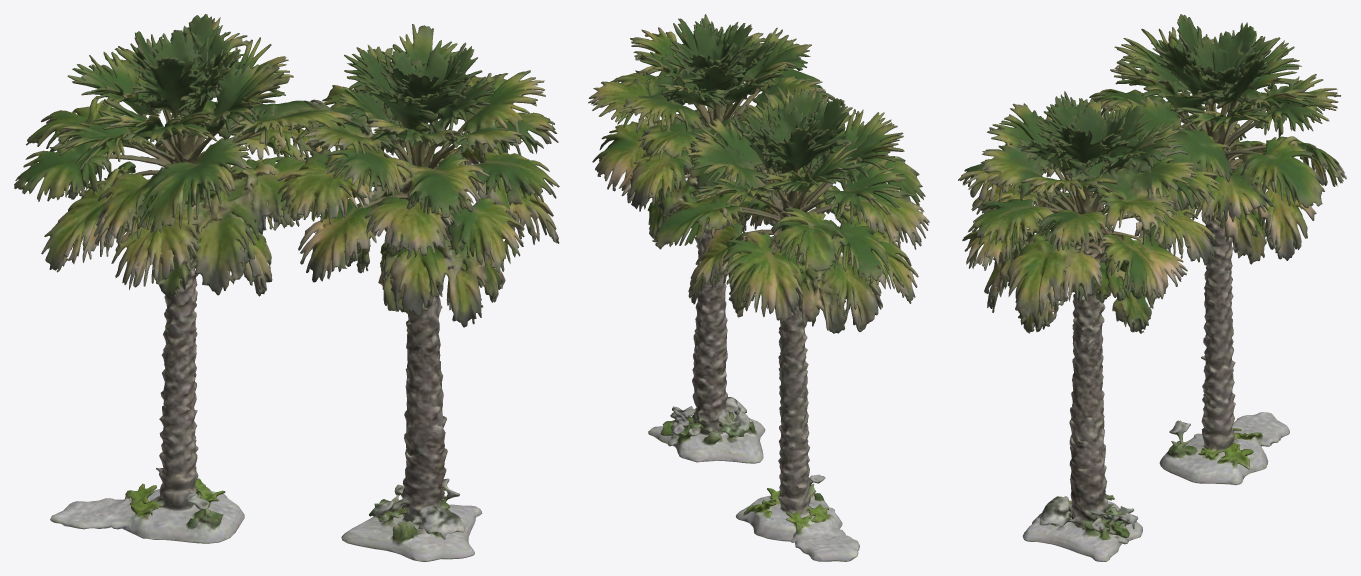
Rendered from palm tree.glb.
3 views of the same model, side by side, from view 1: azimuth 30°, elevation 25°; view 2: azimuth 150°, elevation 25°; view 3: azimuth 270°, elevation 25° (orthographic). The views are drawn at different scales.
Visible parts, largest first — view 1: geometry_0; view 2: geometry_0; view 3: geometry_0.
Boxes of the visible parts, x1,y1,x2,y2 form: geometry_0: (14, 14, 559, 561); geometry_0: (588, 14, 929, 561); geometry_0: (958, 14, 1346, 561).
Bounding box in the file's own units: 0.6952 × 0.7542 × 0.6166.
1 material, 1 textured.
